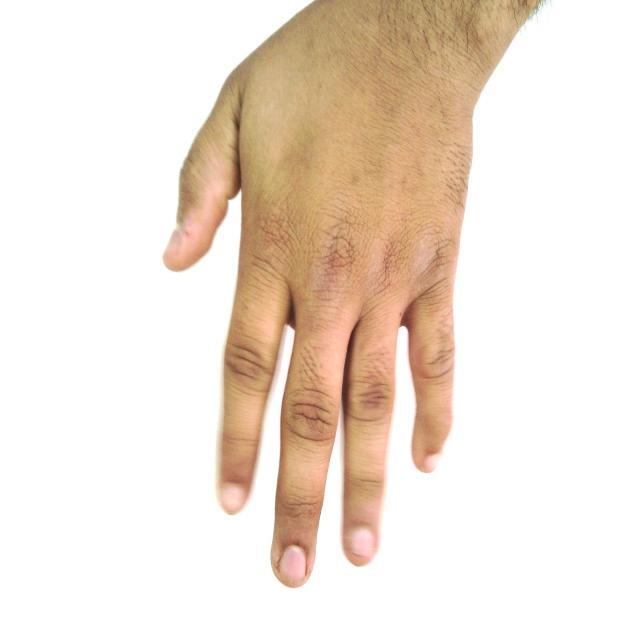Fingernail: (278, 546, 306, 587), (350, 528, 374, 556), (223, 486, 243, 511), (164, 232, 181, 254), (424, 455, 440, 472)
